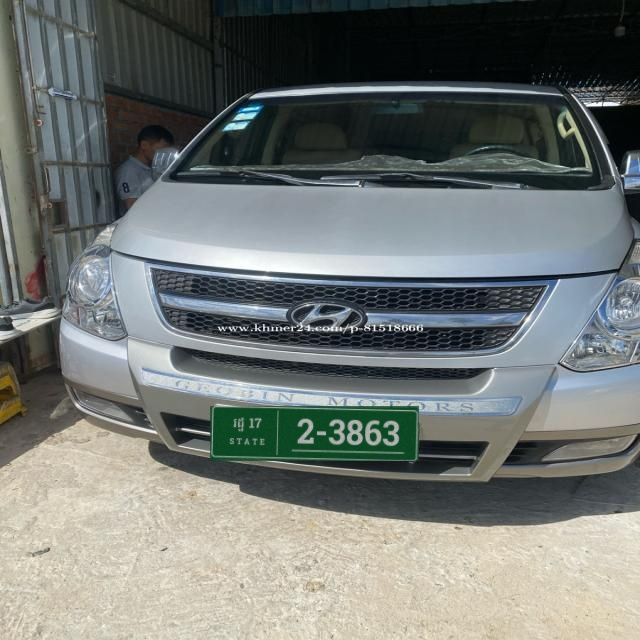Plate Number: (210, 406, 420, 462)
